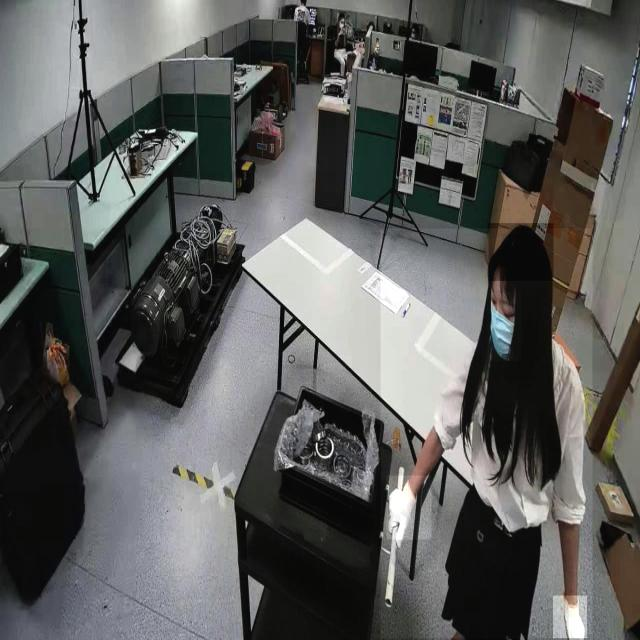face_mask: (487, 292, 521, 362), (337, 13, 346, 35)
hand_glove: (386, 476, 432, 540), (553, 596, 587, 639)
head_nohelmet: (488, 223, 554, 282), (338, 12, 346, 18)
person: (380, 229, 592, 639), (326, 9, 352, 85)
